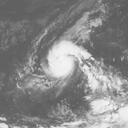cyclone: (40, 39, 90, 83)
